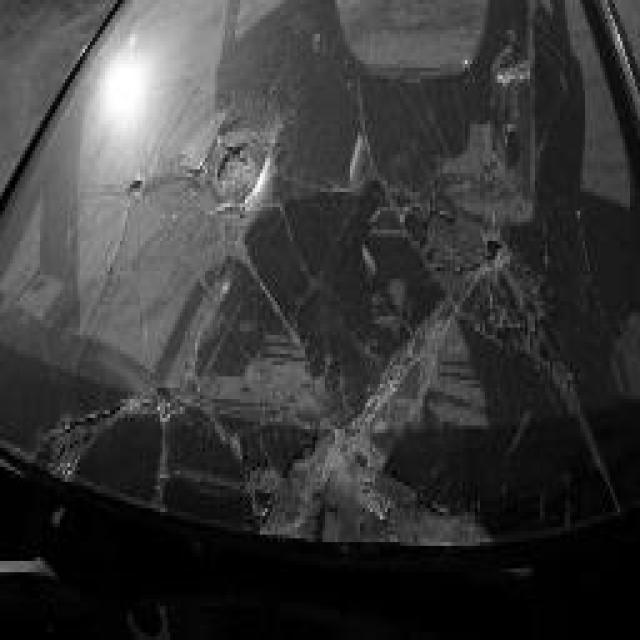Light: (45, 4, 640, 580)
